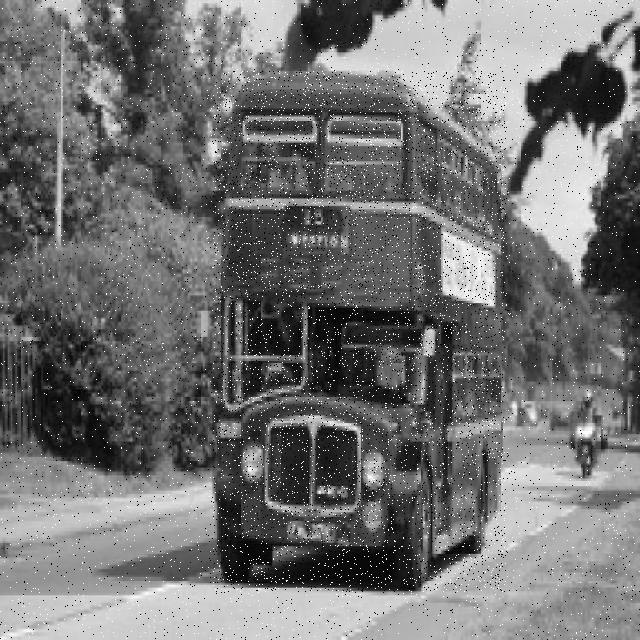Bus: (213, 71, 506, 592)
